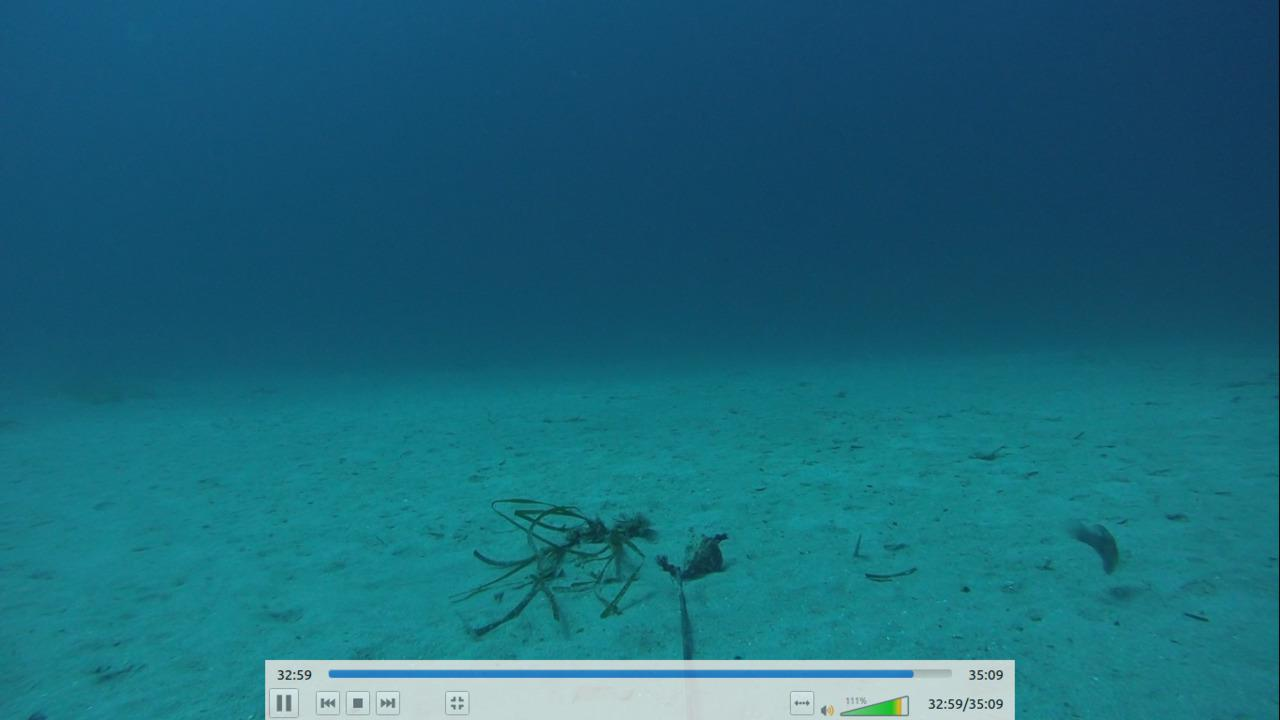raor: (1054, 508, 1125, 580)
